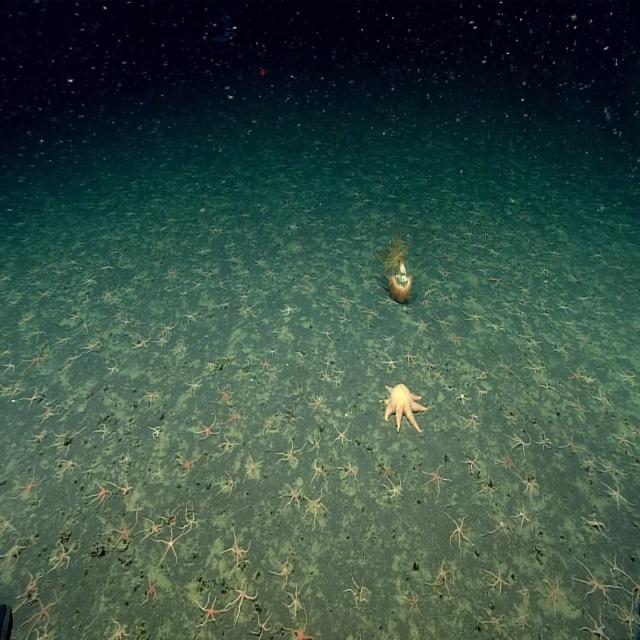brittle-stars: (574, 556, 610, 598), (28, 595, 58, 634), (228, 583, 258, 619), (226, 531, 253, 567), (448, 513, 473, 550), (109, 514, 136, 548), (14, 468, 41, 501), (542, 574, 564, 610), (433, 561, 455, 596), (488, 508, 512, 540), (199, 596, 223, 628), (0, 536, 24, 568), (583, 611, 609, 640), (161, 530, 183, 564), (19, 570, 43, 601), (345, 576, 368, 608), (539, 371, 565, 399), (602, 481, 629, 507), (514, 318, 535, 351), (306, 491, 328, 522), (221, 246, 247, 272), (422, 463, 446, 491), (54, 428, 82, 452), (560, 430, 582, 460), (618, 600, 638, 633), (286, 618, 316, 640), (233, 300, 263, 322), (161, 500, 183, 530), (501, 401, 522, 432), (583, 514, 608, 540), (601, 458, 628, 482), (484, 608, 507, 636), (51, 542, 73, 571), (484, 567, 506, 595), (280, 482, 302, 510), (404, 585, 423, 617), (509, 430, 532, 456), (279, 440, 302, 466), (622, 569, 640, 602), (612, 428, 635, 452), (197, 415, 219, 440), (91, 481, 113, 506), (108, 619, 134, 640), (244, 452, 262, 482), (479, 474, 500, 499), (0, 511, 18, 540), (272, 557, 292, 583), (141, 518, 164, 540), (433, 246, 456, 268), (176, 453, 197, 477), (285, 588, 303, 616), (254, 613, 274, 638), (216, 472, 235, 498), (513, 504, 532, 530), (26, 352, 50, 372), (226, 406, 246, 430), (459, 413, 481, 434), (497, 447, 515, 472), (113, 476, 131, 501), (143, 578, 159, 606), (15, 305, 35, 326), (478, 226, 498, 247), (182, 508, 198, 534), (436, 286, 454, 309), (385, 476, 402, 500), (308, 392, 328, 412), (593, 387, 611, 409), (528, 331, 546, 353), (462, 451, 479, 474), (264, 410, 280, 434), (513, 608, 529, 632), (526, 356, 545, 376), (60, 457, 80, 476), (63, 309, 82, 328), (567, 393, 585, 413), (166, 283, 190, 298), (464, 248, 482, 268), (426, 230, 444, 250), (288, 380, 304, 402), (25, 388, 44, 406), (342, 460, 359, 480), (185, 377, 202, 397), (220, 436, 237, 456), (215, 386, 232, 406), (446, 331, 466, 348), (216, 296, 233, 316), (335, 423, 351, 444), (311, 458, 326, 480), (134, 335, 152, 353), (96, 422, 113, 441), (357, 272, 374, 291), (523, 476, 539, 496), (421, 356, 439, 373), (28, 324, 46, 341), (463, 310, 482, 326), (162, 316, 178, 335), (620, 368, 636, 387), (404, 346, 419, 366), (344, 630, 374, 640), (203, 353, 216, 376), (143, 389, 160, 406), (435, 312, 452, 329), (40, 404, 56, 422), (30, 428, 48, 444), (488, 319, 506, 335), (456, 388, 471, 407), (536, 432, 550, 452), (362, 305, 378, 322), (381, 293, 398, 309), (416, 316, 431, 334), (85, 339, 103, 354), (151, 462, 166, 480), (510, 308, 529, 322), (285, 408, 299, 427), (105, 357, 118, 377), (309, 434, 322, 454), (567, 367, 582, 384), (554, 343, 569, 360), (561, 316, 578, 331), (498, 356, 512, 374), (78, 316, 92, 334), (26, 527, 38, 548), (224, 348, 238, 366), (519, 580, 531, 600), (1, 359, 17, 374), (577, 332, 592, 348), (381, 461, 395, 478), (148, 423, 162, 440), (280, 304, 297, 318), (174, 341, 188, 358), (102, 284, 116, 301), (85, 462, 99, 479), (57, 333, 72, 348), (320, 326, 335, 341), (8, 383, 23, 398), (108, 244, 123, 259), (384, 353, 398, 369), (267, 369, 281, 385), (476, 363, 489, 380), (338, 312, 353, 326), (39, 286, 54, 300), (261, 354, 273, 371), (157, 335, 171, 349), (430, 275, 444, 289), (134, 314, 148, 328), (476, 385, 490, 399), (124, 282, 138, 296), (339, 294, 354, 307), (488, 274, 503, 287), (97, 263, 112, 276), (465, 290, 477, 306), (119, 450, 131, 466), (364, 246, 376, 262), (630, 421, 640, 440), (32, 632, 55, 640), (85, 274, 98, 288), (335, 363, 348, 377), (266, 268, 280, 281), (184, 311, 197, 325), (537, 265, 550, 279), (279, 323, 291, 338), (166, 267, 179, 280), (304, 271, 317, 284), (556, 302, 570, 314), (326, 282, 340, 294), (586, 456, 598, 470), (586, 373, 598, 387), (320, 368, 331, 383), (192, 279, 204, 292), (256, 258, 269, 270), (419, 296, 432, 308), (239, 290, 251, 303), (576, 292, 589, 304), (0, 346, 12, 359), (217, 277, 228, 291), (422, 286, 434, 298), (334, 376, 346, 388), (463, 229, 475, 241), (518, 295, 530, 307), (502, 300, 514, 312), (536, 295, 547, 308), (520, 284, 531, 296), (324, 357, 335, 369), (269, 345, 280, 357), (488, 246, 500, 257), (448, 228, 459, 240), (302, 282, 313, 294), (549, 248, 561, 259), (115, 306, 124, 320), (190, 266, 201, 277), (400, 305, 411, 316), (241, 267, 252, 278), (442, 268, 452, 280), (311, 300, 320, 313), (212, 224, 222, 235)
